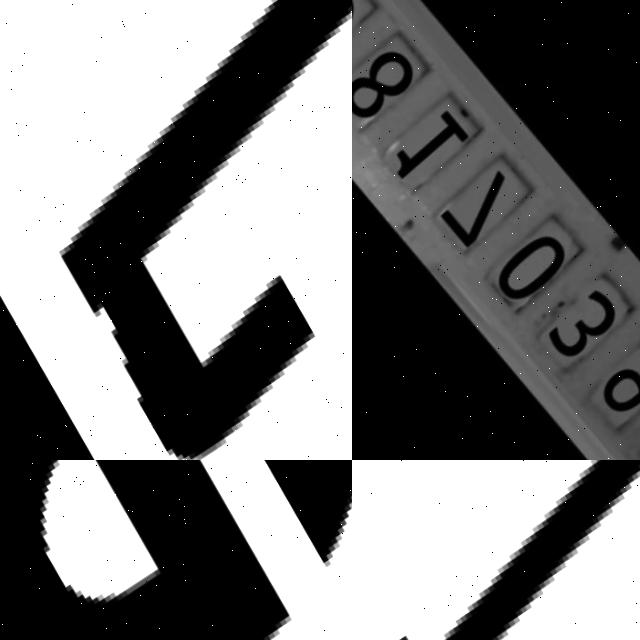0: (471, 216, 590, 328)
1: (362, 93, 485, 206)
3: (524, 276, 640, 386)
7: (421, 156, 538, 267)
8: (352, 31, 436, 144)
9: (578, 335, 640, 441)
F: (352, 460, 640, 640)
R: (0, 0, 352, 460)
